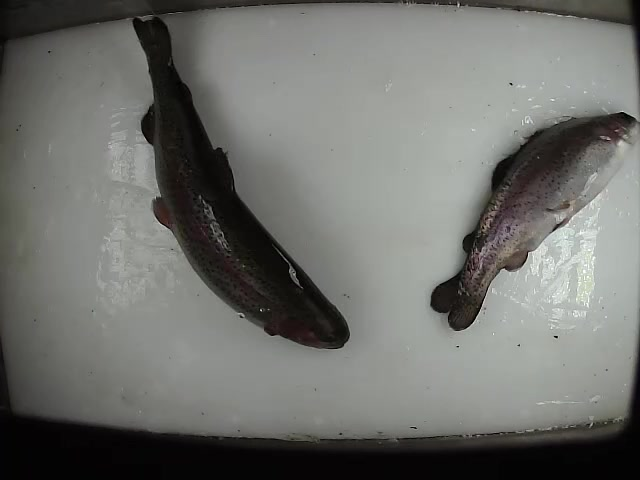fish: (123, 13, 351, 350), (429, 109, 640, 331)
